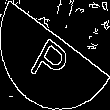P_NE: (30, 24, 80, 86)
